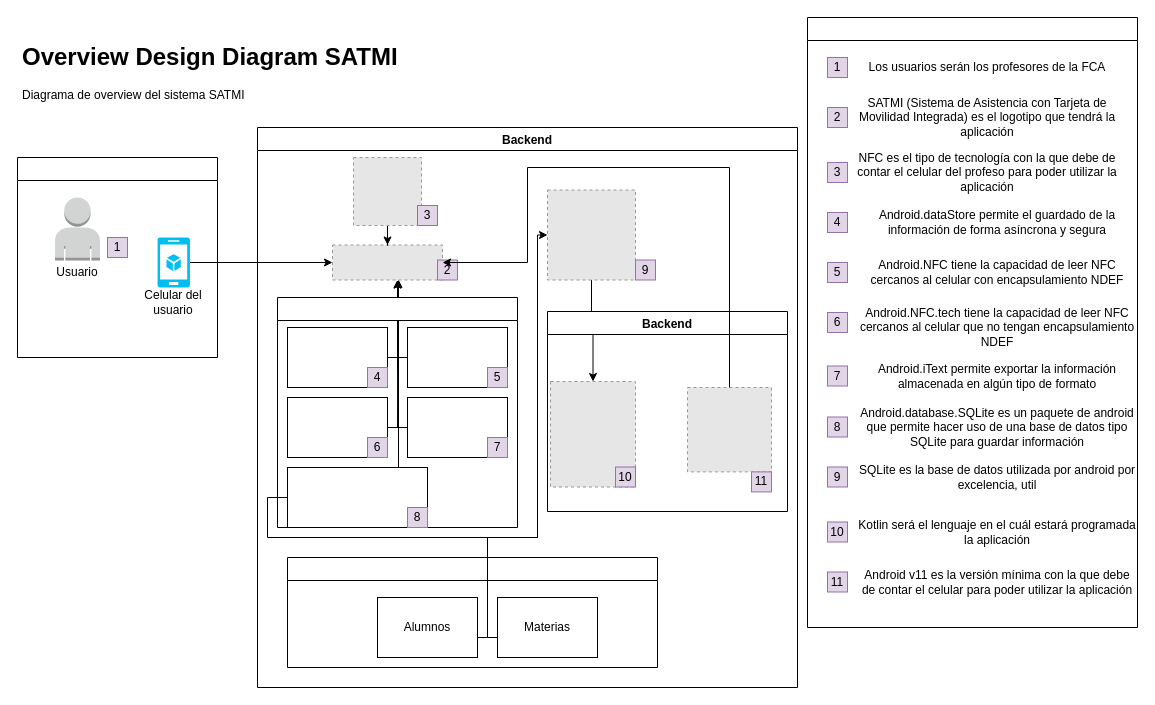
The diagram is 1155 pixels wide and 705 high, and some of its shapes have lost their labels. Grey dashed boxes stand in for pictures. Each missing label, with the box of its shape:
Android.database.SQLite: (286, 466, 428, 528)
Android.dataStore: (286, 326, 388, 388)
Android.iText: (406, 396, 508, 458)
Android.NFC: (406, 326, 508, 388)
Android.Tech.NFC: (286, 396, 388, 458)
Capa de API: (276, 296, 518, 528)
Definiciones: (806, 16, 1138, 628)
Front-end: (16, 156, 218, 358)
Modulos: (286, 556, 658, 668)
